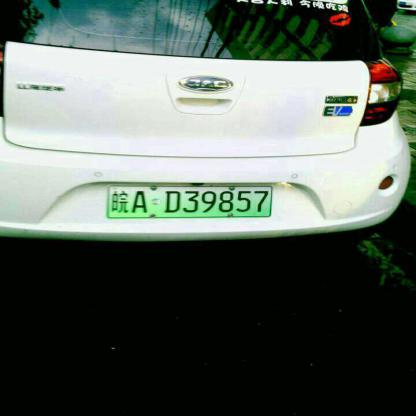lp: (108, 185, 272, 216)
